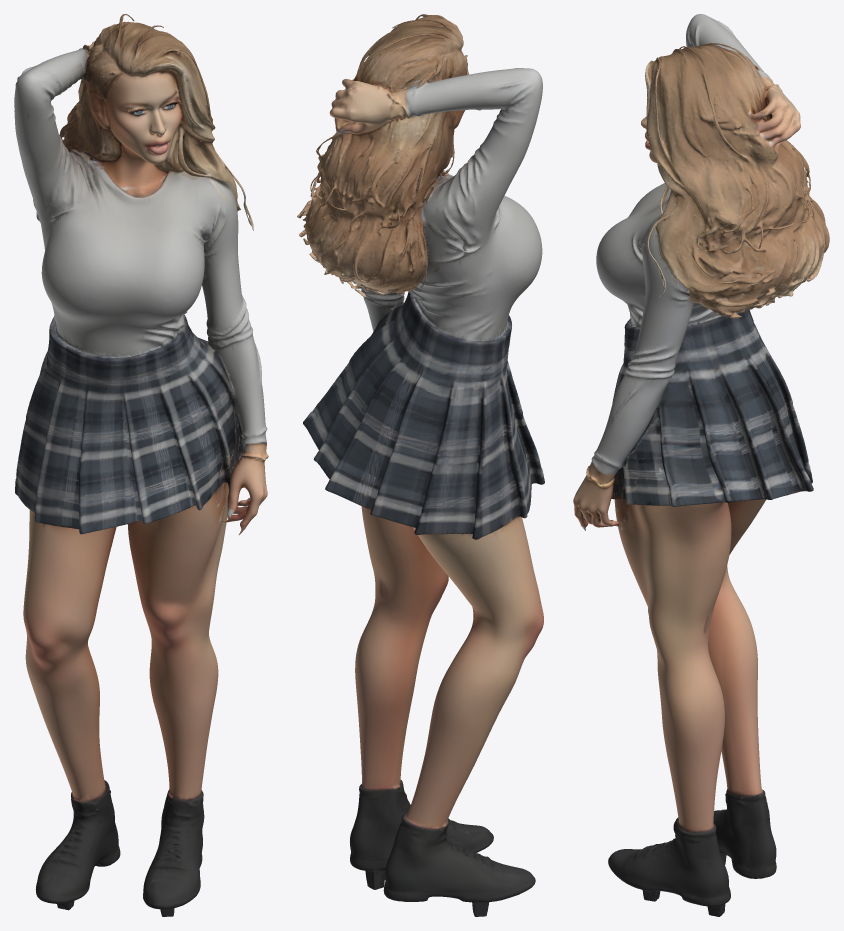
File: kira.glb
The picture shows the model from 3 angles, left to right: view 1: azimuth 30°, elevation 25°; view 2: azimuth 150°, elevation 25°; view 3: azimuth 270°, elevation 25°; orthographic projection. The views are drawn at different scales.
Visible parts, largest first — view 1: Mesh_0; view 2: Mesh_0; view 3: Mesh_0.
Boxes of the visible parts, x1,y1,x2,y2 form: Mesh_0: (14,14,268,916); Mesh_0: (297,14,544,916); Mesh_0: (573,14,829,916).
Bounding box in the file's own units: 0.515 × 1.9 × 0.5193.
Materials: 1 (1 with a texture image).
